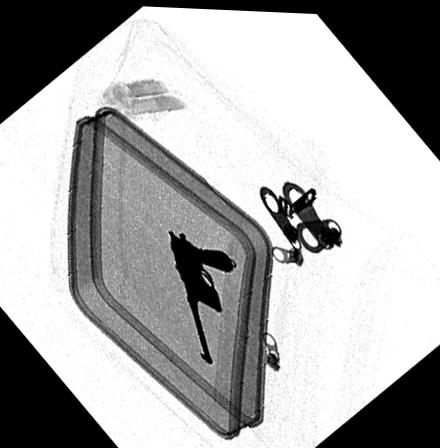Gun: (166, 229, 234, 365)
